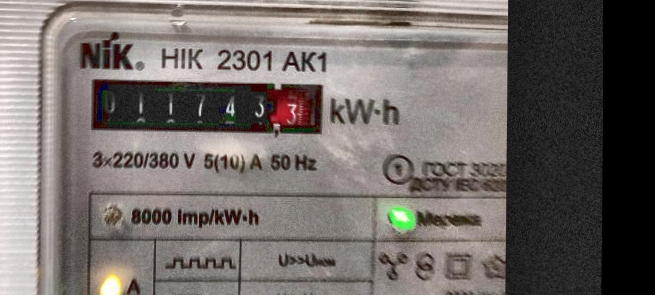0: (102, 87, 116, 115)
1: (163, 88, 175, 116), (134, 87, 144, 114)
3: (252, 91, 266, 119), (283, 101, 297, 126)
4: (222, 91, 236, 118)
7: (192, 88, 207, 116)
screen: (80, 68, 334, 144)
